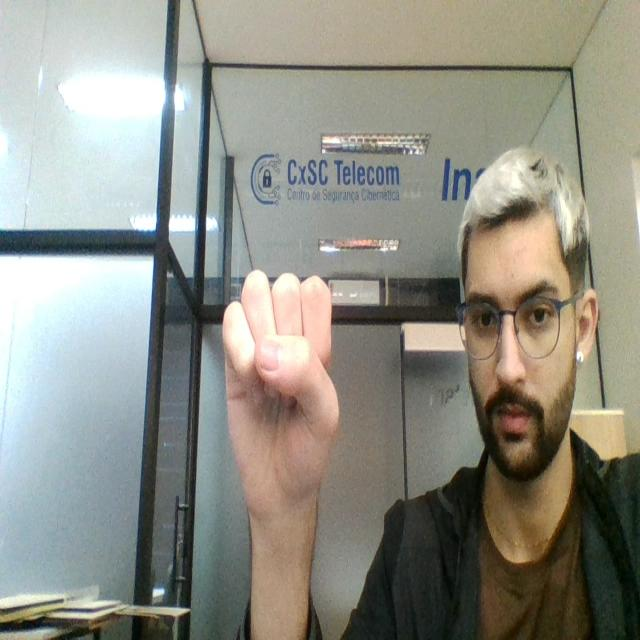S: (221, 265, 342, 517)
